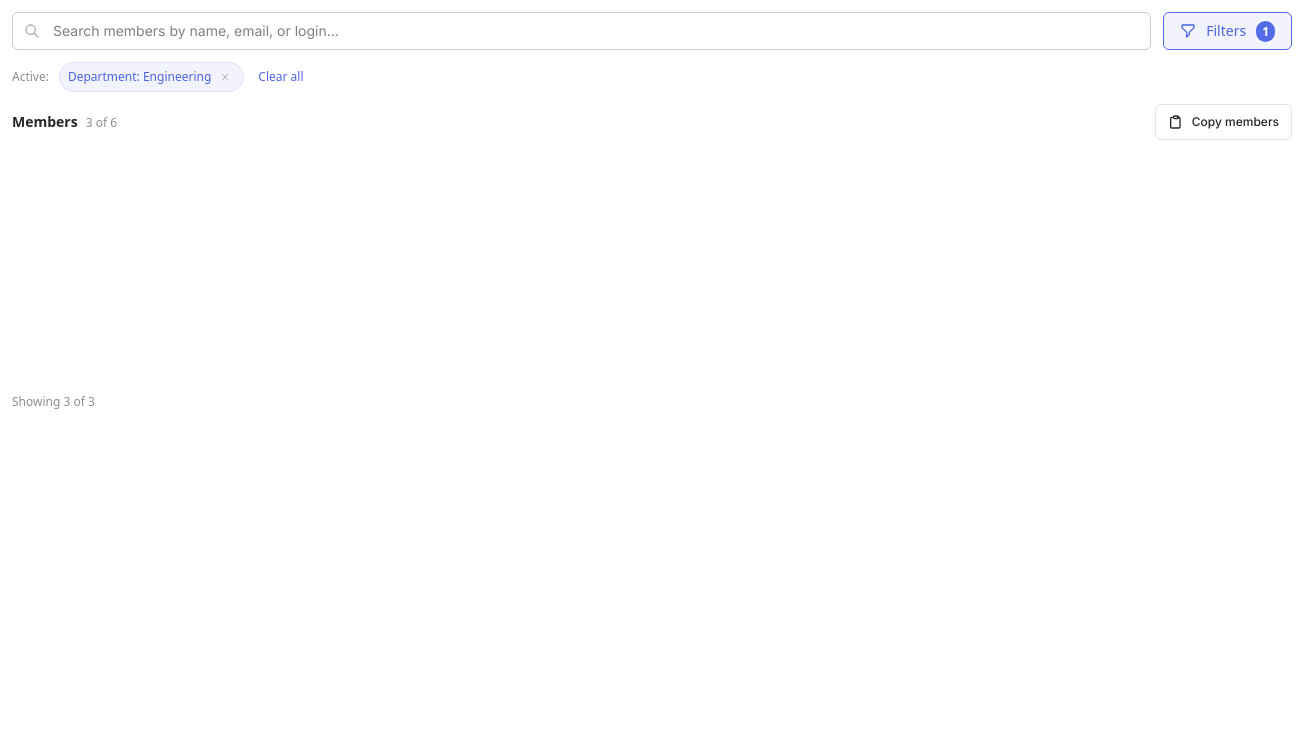
Scenario: a filter handed over by a neighbouring surface › does not put the filter back when the reader removes it
The image size is (1304, 732).
Click the button named "Remove Department: Engineering filter": (225, 77) top-left (215, 67), bottom-right (235, 87)
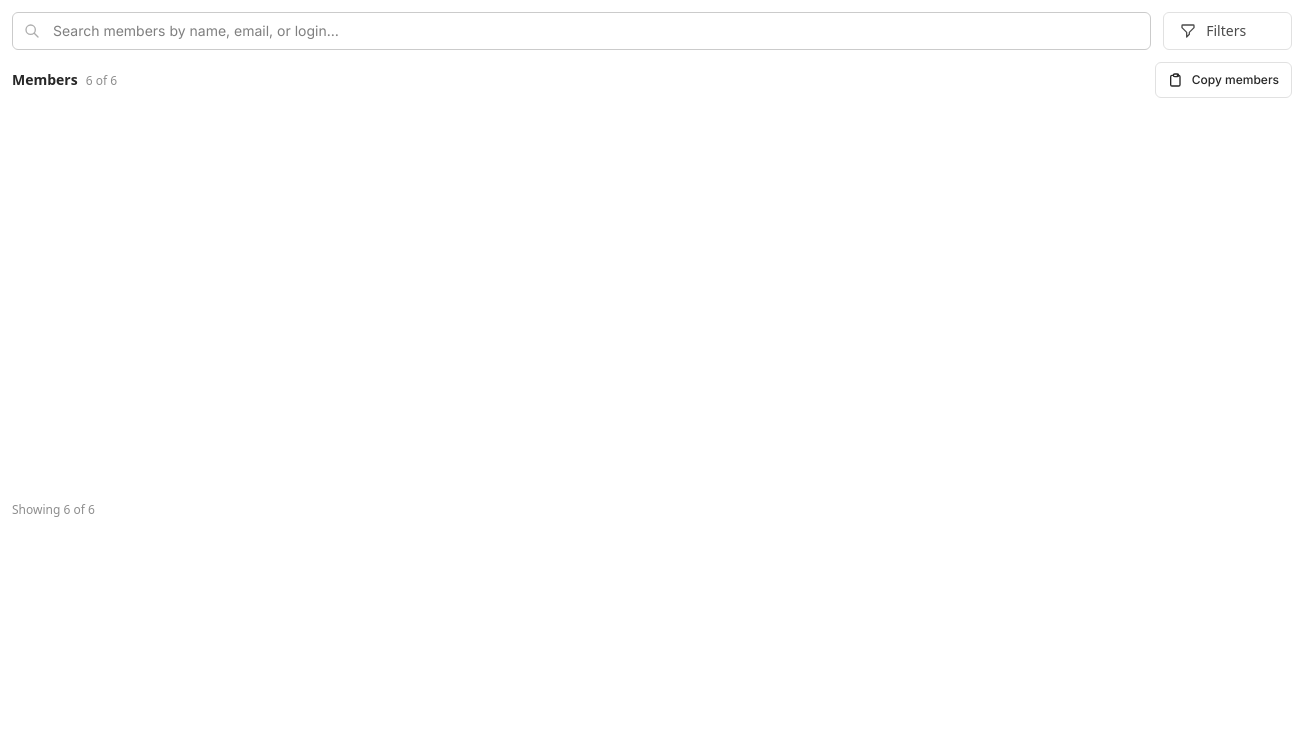
expect the text "6 of 6" is shown: met, box top-left (86, 72), bottom-right (117, 89)
